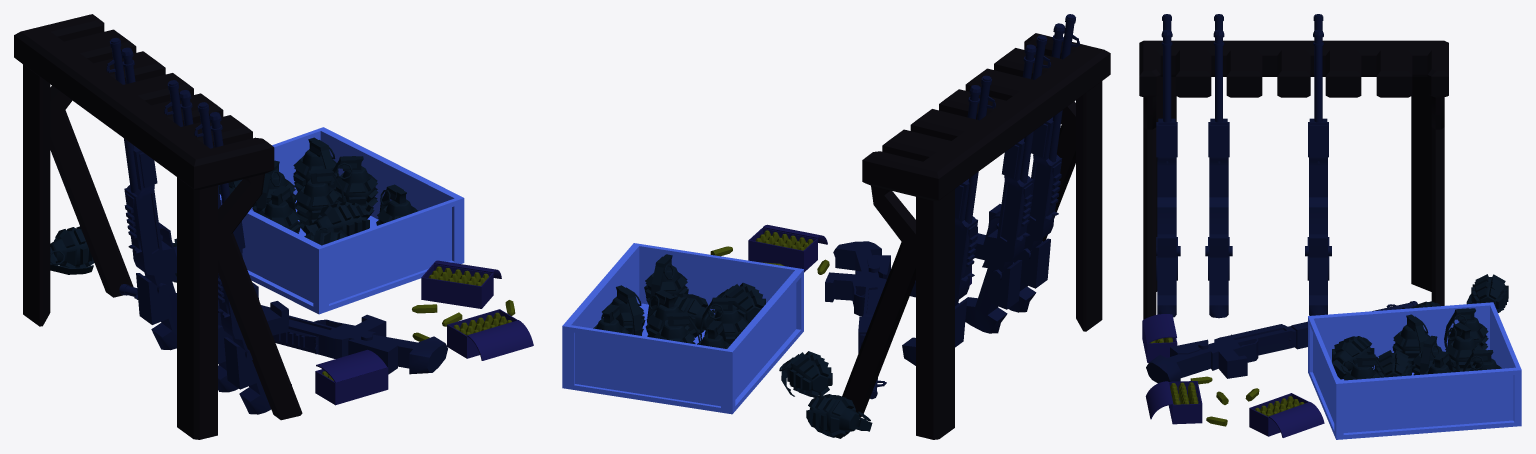
The model's file is SM_Guns.fbx.
3 renders of one model, left to right at view 1: azimuth 30°, elevation 25°; view 2: azimuth 150°, elevation 25°; view 3: azimuth 270°, elevation 25°, orthographic. The views are drawn at different scales.
Visible parts, largest first — view 1: Cylinder027; view 2: Cylinder027; view 3: Cylinder027.
Boxes of the visible parts, x1=… form: Cylinder027: x1=14, y1=14, x2=533, y2=439; Cylinder027: x1=562, y1=14, x2=1110, y2=439; Cylinder027: x1=1139, y1=14, x2=1521, y2=439.
Size of the model in its own units: 38.43 by 30.23 by 37.78.
